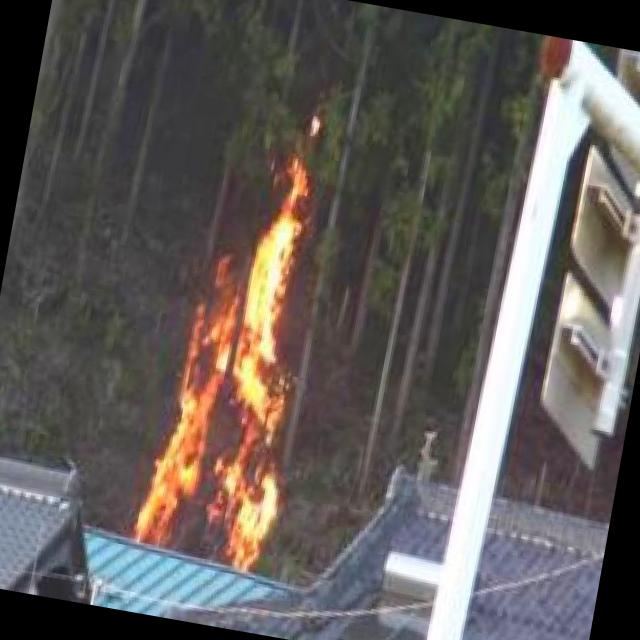Fire: (130, 158, 340, 570)
